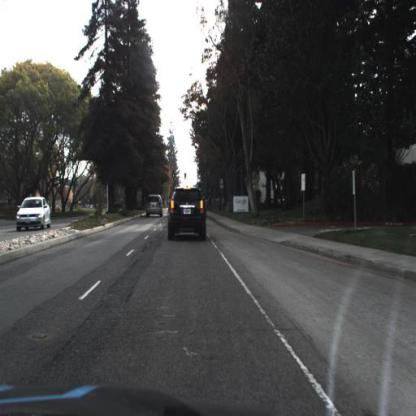car: (167, 185, 208, 241), (14, 196, 52, 234), (144, 192, 164, 219)
